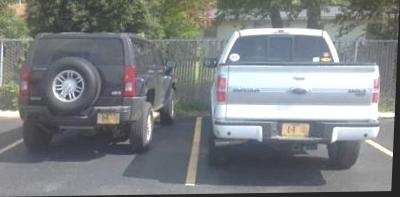License_Plate: (282, 121, 309, 138)
